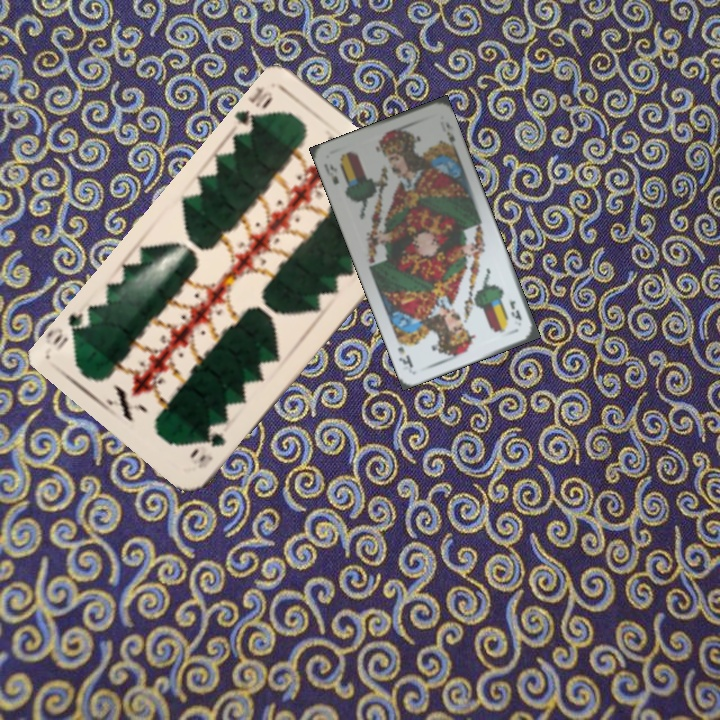EK: (320, 159, 341, 187), (505, 296, 524, 324)
G10: (231, 82, 276, 137), (193, 429, 228, 471)
